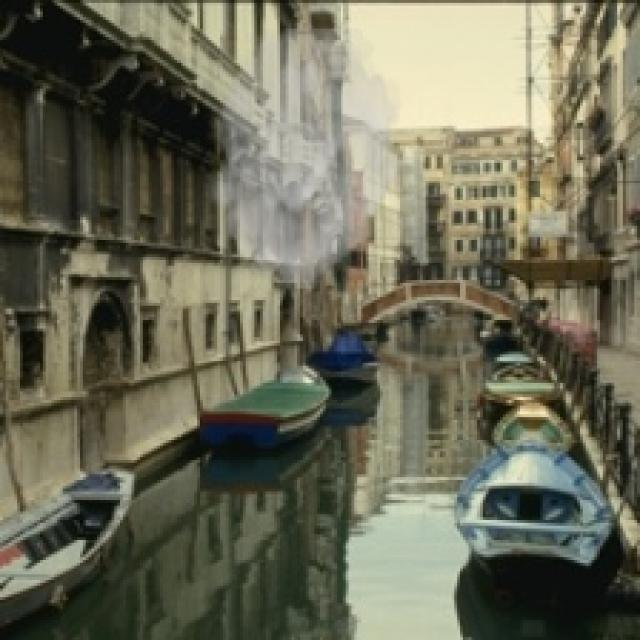smoke: (203, 28, 408, 288)
